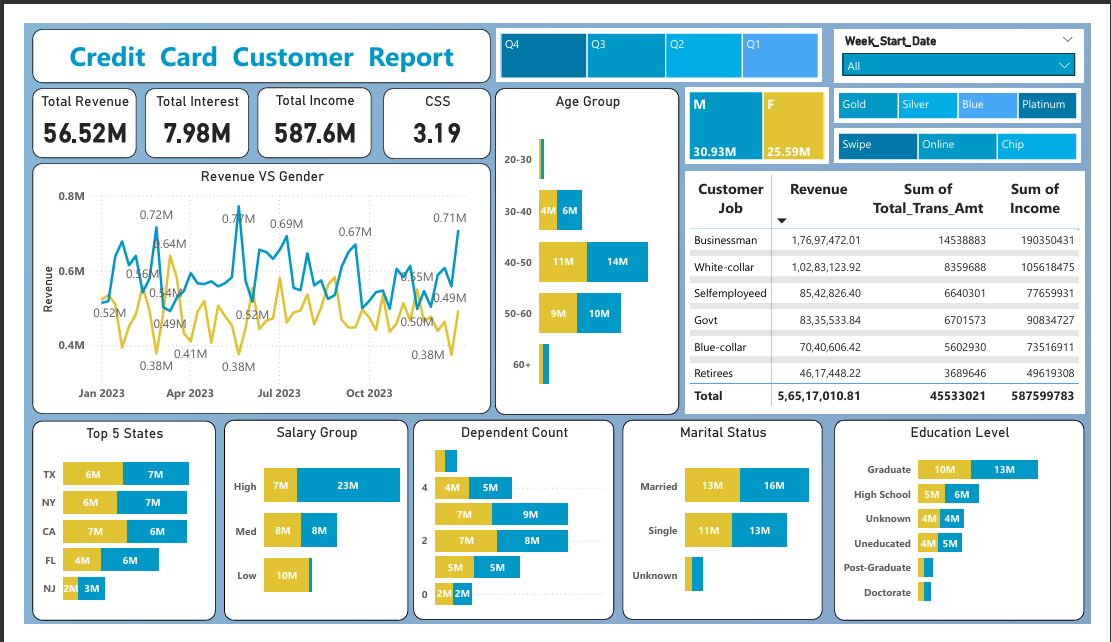

The dashboard page shown, as its layout file describes it:
{"tool":"powerbi","page":{"name":"Customer","canvas":[1280,720],"ordinal":1},"visuals":[{"type":"textbox","box":[10,6,550,64.7],"z":0},{"type":"tableEx","title":"ffsd","fields":{"Values":["public cust_detail.customer_job","Sum(public cc_detail.revenue)","Sum(public cc_detail.total_trans_amt)","Sum(public cust_detail.income)"]},"box":[793,177,479,291],"z":1000},{"type":"card","title":"Total Revenue","fields":{"Values":["Sum(public cc_detail.revenue)"]},"box":[10,76.7,125,84],"z":2000},{"type":"card","title":"Total Income","fields":{"Values":["Sum(public cust_detail.income)"]},"box":[279.9,76.2,137.5,84.5],"z":3000},{"type":"card","title":"Total Interest","fields":{"Values":["Sum(public cc_detail.interest_earned)"]},"box":[145.3,77.3,125,84],"z":4000},{"type":"card","title":"CSS","fields":{"Values":["Avg(public cust_detail.cust_satisfaction_score)"]},"box":[430.9,77.3,129.1,84.5],"z":5000},{"type":"slicer","fields":{"Values":["public cc_detail.week_start_date"]},"box":[972.4,6.6,298.2,64.6],"z":6000},{"type":"treemap","fields":{"Group":["public cc_detail.qtr"],"Values":["Avg(public cc_detail.client_num)"]},"box":[566.7,5.8,391.7,64.2],"z":7000},{"type":"treemap","fields":{"Values":["Avg(public cc_detail.client_num)"],"Group":["public cc_detail.card_category"]},"box":[972,77,296,42],"z":8000},{"type":"treemap","fields":{"Values":["Avg(public cc_detail.client_num)"],"Group":["public cc_detail.use_chip"]},"box":[972,126,296,42],"z":9000},{"type":"treemap","fields":{"Group":["public cust_detail.gender"],"Values":["Sum(public cc_detail.revenue)"]},"box":[793.1,76.2,172.3,91.5],"z":10000},{"type":"lineChart","title":"Revenue VS Gender","fields":{"Y":["Sum(public cc_detail.revenue)"],"Series":["public cust_detail.gender"],"Category":["public cc_detail.week_start_date.Variation.Date Hierarchy.Year","public cc_detail.week_start_date.Variation.Date Hierarchy.Quarter","public cc_detail.week_start_date.Variation.Date Hierarchy.Month","public cc_detail.week_start_date.Variation.Date Hierarchy.Day"]},"box":[10,167.4,550,301.1],"z":11000},{"type":"barChart","title":"Top 5 States","fields":{"Y":["Sum(public cc_detail.revenue)"],"Series":["public cust_detail.gender"],"Category":["public cust_detail.state_cd"]},"box":[10,475.7,220,240],"z":12000},{"type":"barChart","title":"Age Group","fields":{"Y":["Sum(public cc_detail.revenue)"],"Series":["public cust_detail.gender"],"Category":["public cust_detail.age_group"]},"box":[565,77,221,392],"z":13000},{"type":"barChart","title":"Salary Group","fields":{"Y":["Sum(public cc_detail.revenue)"],"Series":["public cust_detail.gender"],"Category":["public cust_detail.income_group"]},"box":[240.2,475.4,220.3,240.2],"z":14000},{"type":"barChart","title":"Dependent Count","fields":{"Y":["Sum(public cc_detail.revenue)"],"Series":["public cust_detail.gender"],"Category":["public cust_detail.dependent_count"]},"box":[467.3,475.5,240.9,240],"z":15000},{"type":"barChart","title":"Marital Status","fields":{"Y":["Sum(public cc_detail.revenue)"],"Series":["public cust_detail.gender"],"Category":["public cust_detail.marital_status"]},"box":[718.2,475.5,240,240],"z":16000},{"type":"barChart","title":"Education Level","fields":{"Y":["Sum(public cc_detail.revenue)"],"Series":["public cust_detail.gender"],"Category":["public cust_detail.education_level"]},"box":[972.4,475.4,299.8,240.2],"z":17000}]}

Visuals, with their boxes in screenshot pixels (x1, y1, x2, y2), scaled from the page's 1280x720 canvas onto the 1111x642 screenshot:
textbox: region(9, 5, 486, 63)
"ffsd" tableEx: region(688, 158, 1104, 417)
"Total Revenue" card: region(9, 68, 117, 143)
"Total Income" card: region(243, 68, 362, 143)
"Total Interest" card: region(126, 69, 235, 144)
"CSS" card: region(374, 69, 486, 144)
slicer - public cc_detail.week_start_date: region(844, 6, 1103, 63)
treemap - public cc_detail.qtr x Avg(public cc_detail.client_num): region(492, 5, 832, 62)
treemap - Avg(public cc_detail.client_num) x public cc_detail.card_category: region(844, 69, 1101, 106)
treemap - Avg(public cc_detail.client_num) x public cc_detail.use_chip: region(844, 112, 1101, 150)
treemap - public cust_detail.gender x Sum(public cc_detail.revenue): region(688, 68, 838, 150)
"Revenue VS Gender" lineChart: region(9, 149, 486, 418)
"Top 5 States" barChart: region(9, 424, 200, 638)
"Age Group" barChart: region(490, 69, 682, 418)
"Salary Group" barChart: region(208, 424, 400, 638)
"Dependent Count" barChart: region(406, 424, 615, 638)
"Marital Status" barChart: region(623, 424, 832, 638)
"Education Level" barChart: region(844, 424, 1104, 638)
